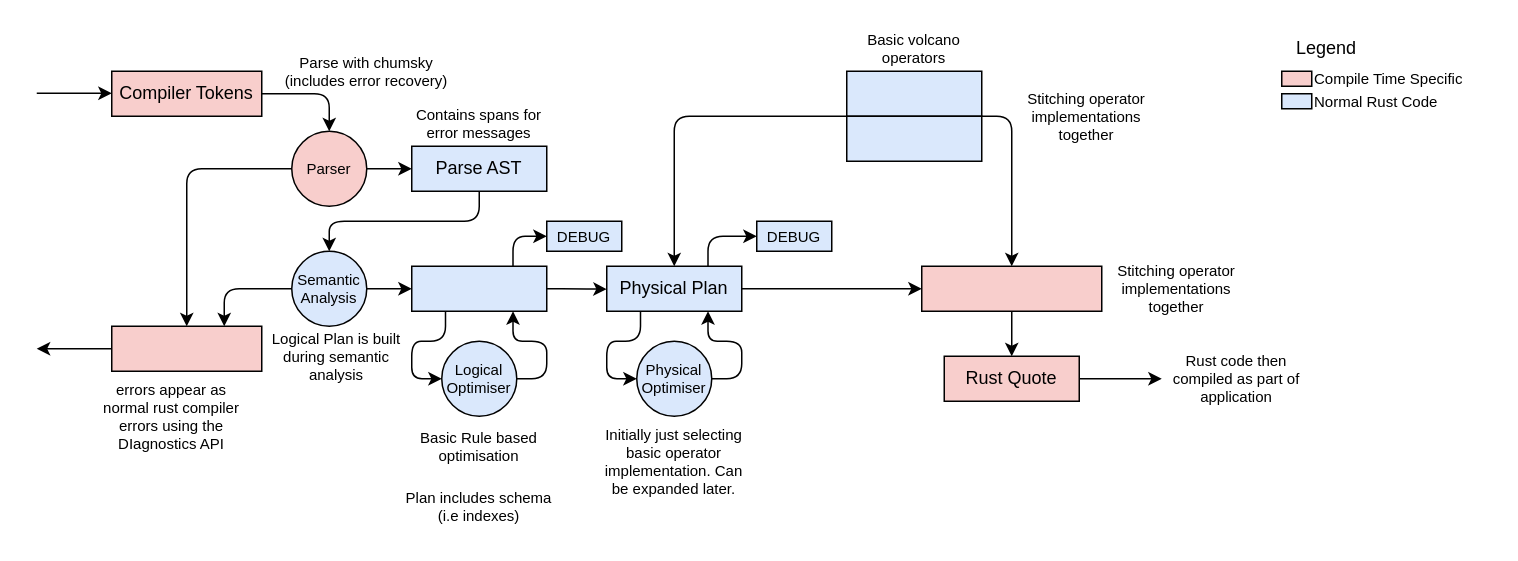
Some shapes in this 1518 by 561 pixel diagram are drawn without their labels. The shapes that lost their labels are listed below. From the top down, each one's centre as x and y in pixels, then its label:
pixel 913 93: Operators
pixel 913 138: Data Structures
pixel 478 288: Logical Plan
pixel 1011 288: Code Generation
pixel 186 348: Compiler Errors
